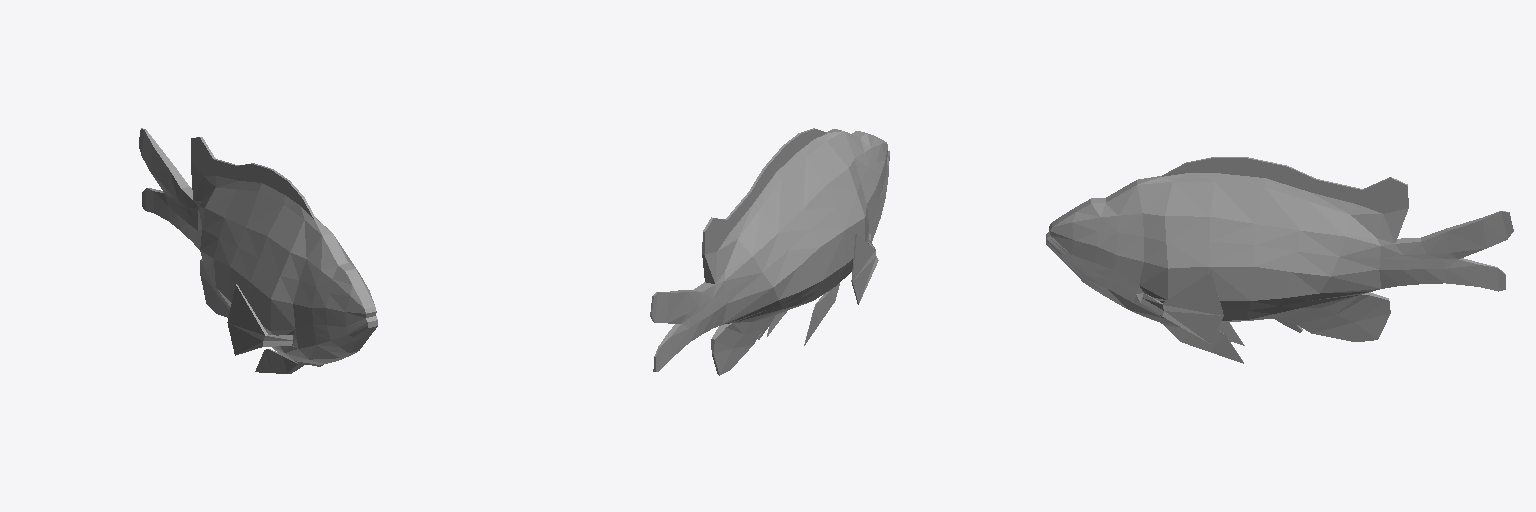
The model's file is TropicalFish07.obj.
The picture shows the model from 3 angles: view 1: azimuth 30°, elevation 25°; view 2: azimuth 150°, elevation 25°; view 3: azimuth 270°, elevation 25°; orthographic projection.
Visible parts, largest first — view 1: TropicalFish07; view 2: TropicalFish07; view 3: TropicalFish07.
Boxes of the visible parts, box(x1,y1,x2,y2) form: TropicalFish07: box(139, 128, 377, 373); TropicalFish07: box(650, 128, 889, 375); TropicalFish07: box(1046, 157, 1513, 363).
Bounding box in the file's own units: 129 × 215 × 461.